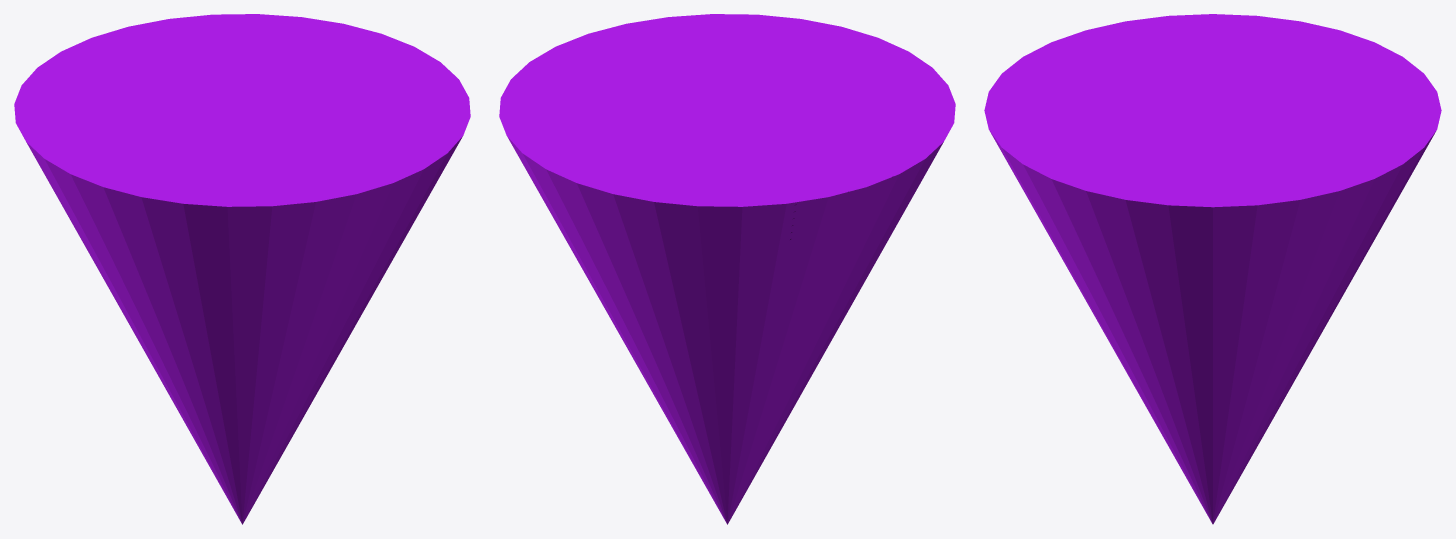
File: thorn.obj
3 views of the same model, side by side, from view 1: azimuth 30°, elevation 25°; view 2: azimuth 150°, elevation 25°; view 3: azimuth 270°, elevation 25° (orthographic).
Visible parts, largest first — view 1: 円錐; view 2: 円錐; view 3: 円錐.
Part boxes in pixels (<box>): 円錐: <box>14,14,470,524</box>; 円錐: <box>499,14,955,524</box>; 円錐: <box>984,14,1441,524</box>.
Bounding box in the file's own units: 9.6 × 9.6 × 9.6.
1 material, 1 textured.
